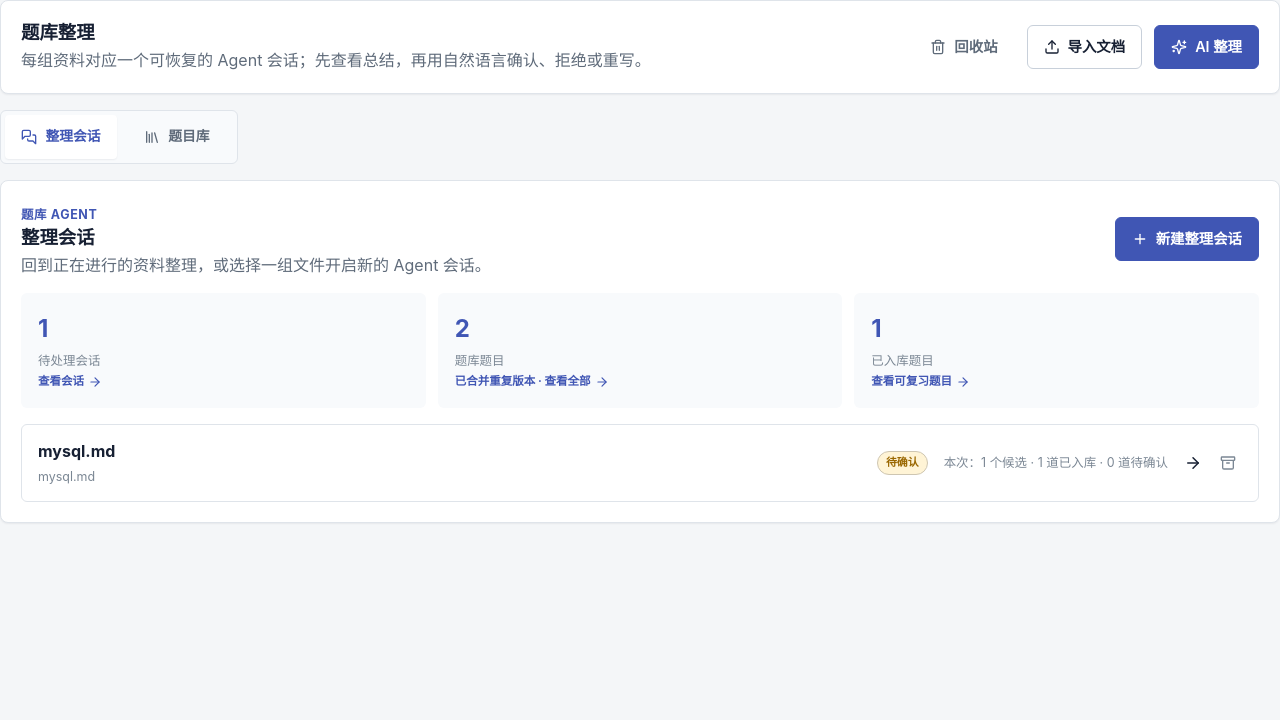
Test: QuestionCatalog › uses the same global candidate facts for overview counts and library results
The width and height of the screenshot is (1280, 720).
Check: the button "1 已入库题目 查看可复习题目" is shown, box x1=854 y1=293 x2=1259 y2=408
Click the button "2 题库题目 已合并重复版本 · 查看全部" at (480, 360), box x1=438 y1=293 x2=842 y2=408
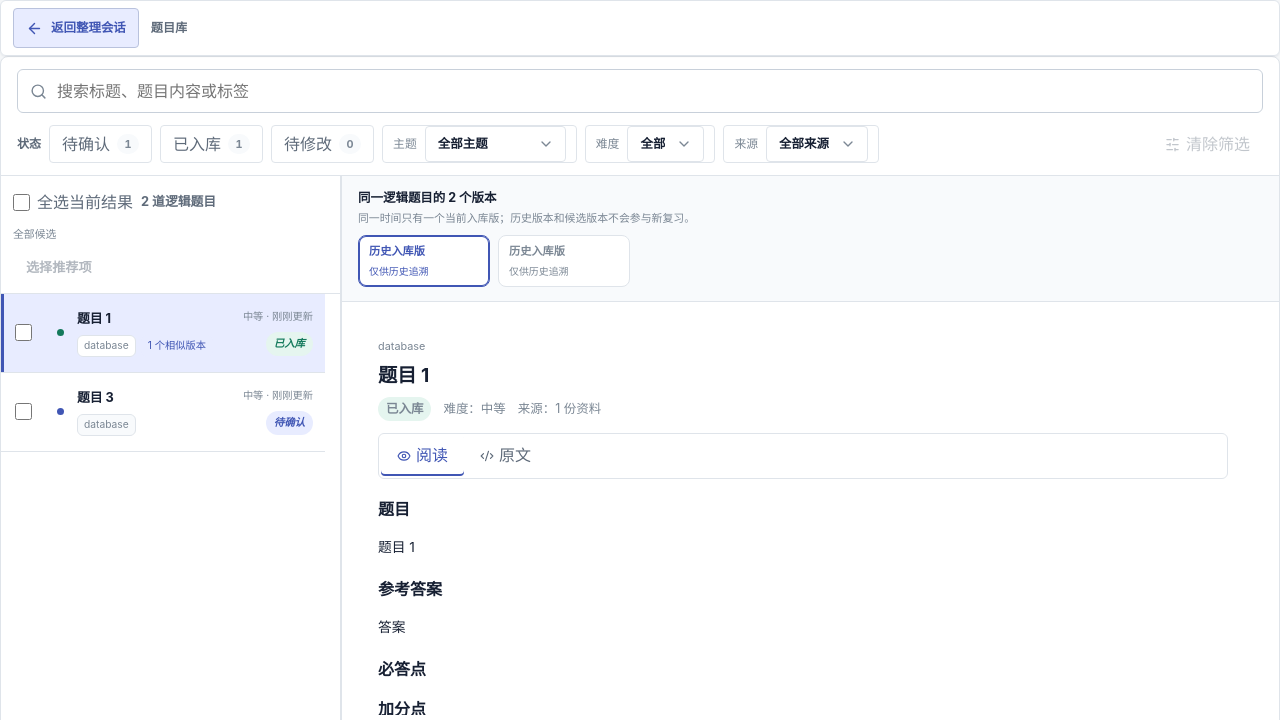
Click the button "返回整理会话" at (76, 28), box x1=13 y1=8 x2=139 y2=48
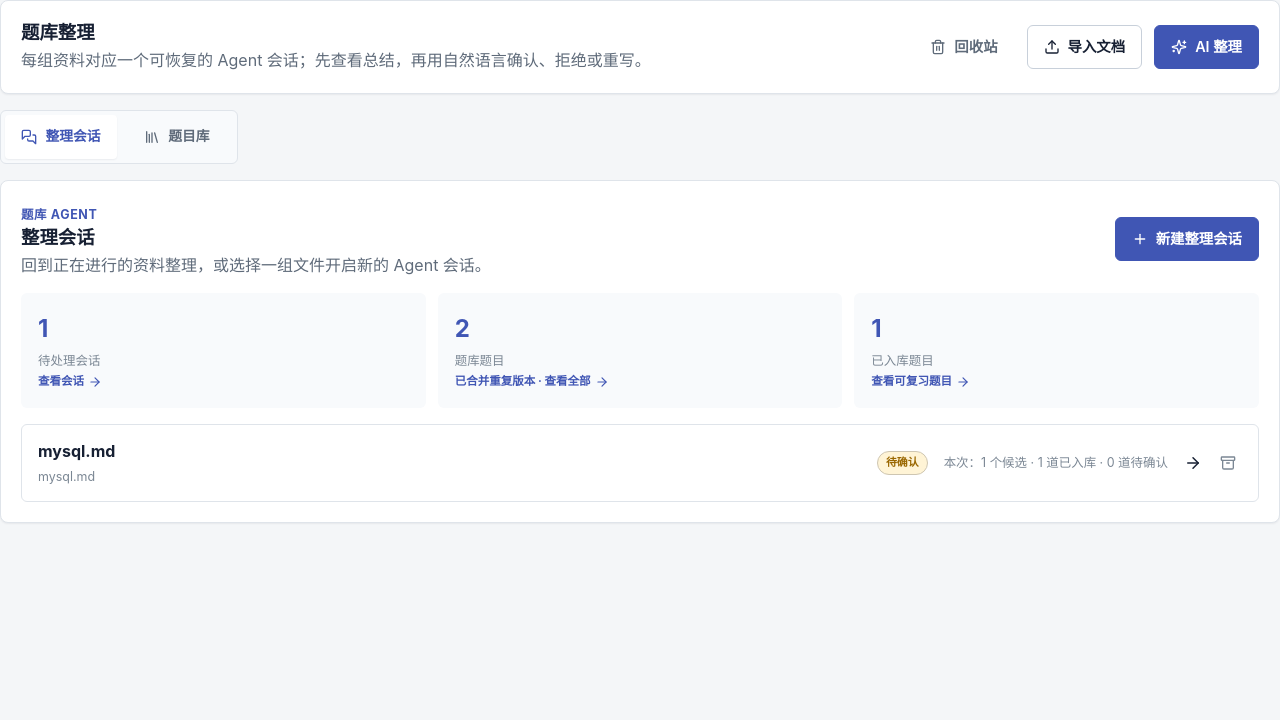
Click the button "1 已入库题目 查看可复习题目" at (903, 360), box x1=854 y1=293 x2=1259 y2=408
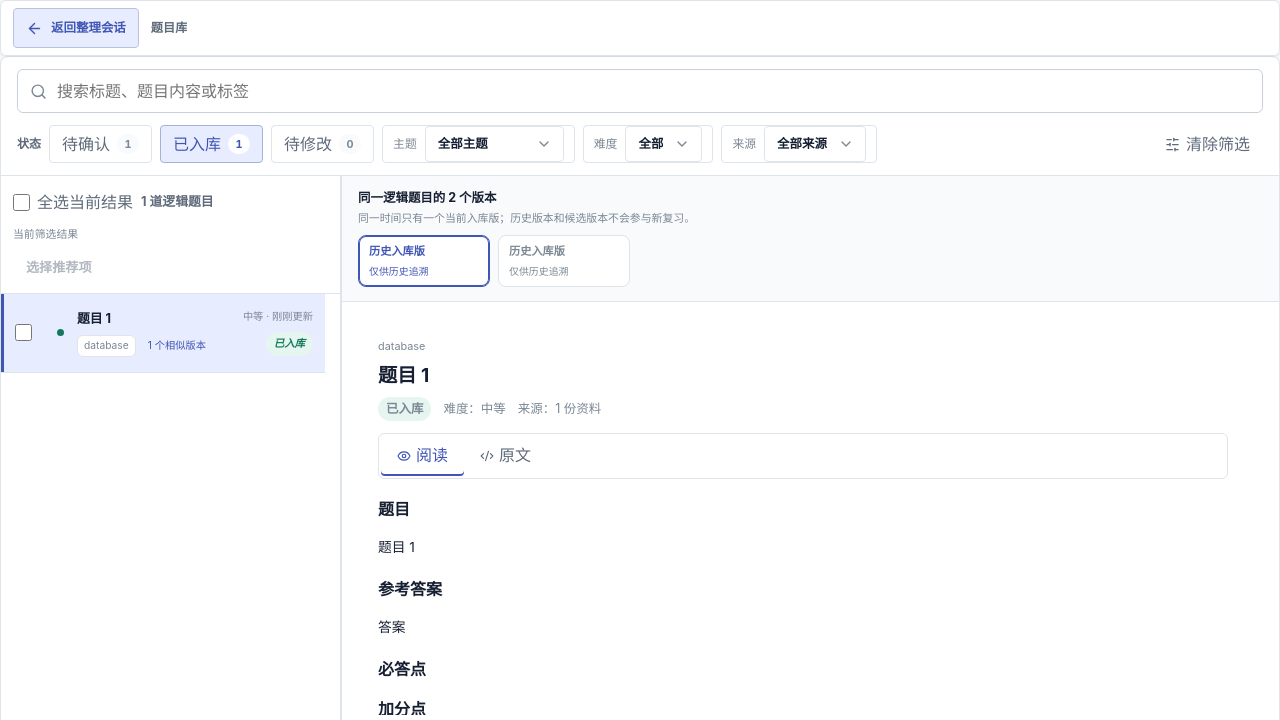
Check: the button "已入库 1" is pressed, box x1=160 y1=125 x2=263 y2=163
Select "database（1）" in the dropdown named "主题筛选" at (494, 144), box x1=425 y1=126 x2=564 y2=162
(page scrolled)
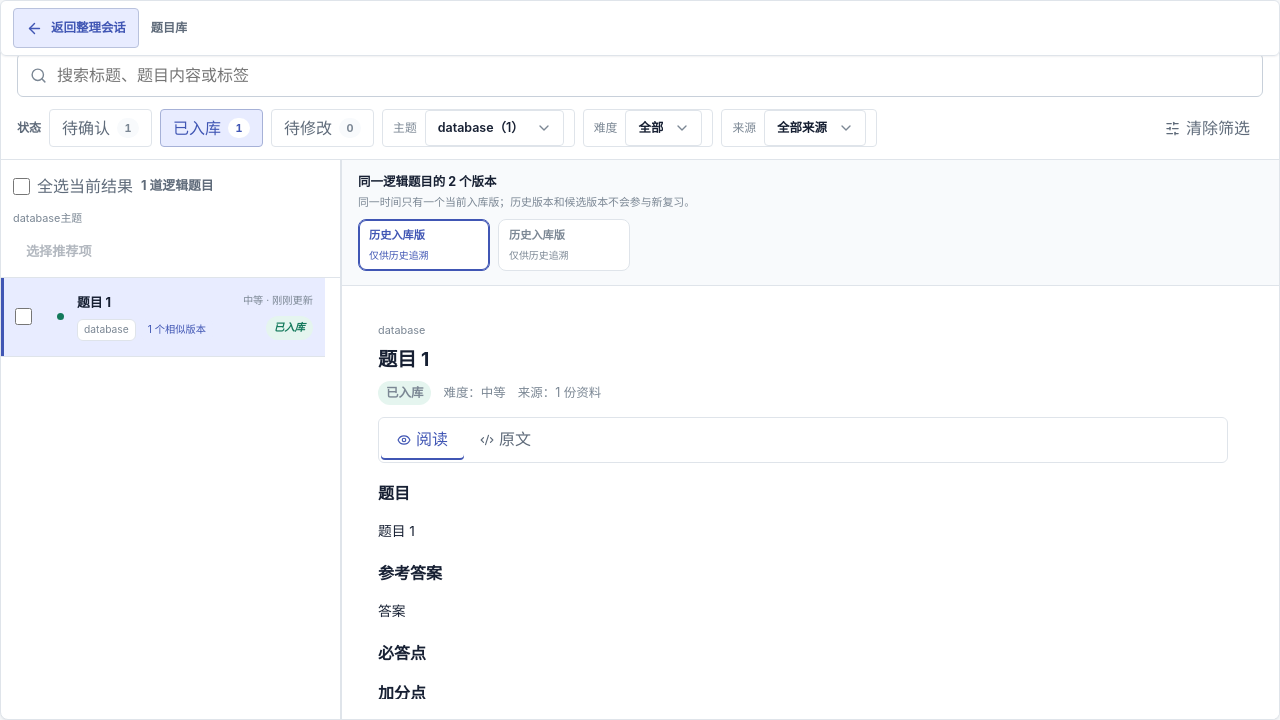
Check: the element named "题目结果" shows "1 道逻辑题目", box x1=1 y1=160 x2=341 y2=719
Check: the element named "题目结果" shows "database主题", box x1=13 y1=211 x2=82 y2=225
